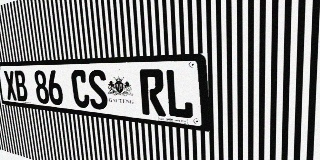6: (46, 70, 64, 106)
8: (33, 70, 50, 104)
B: (13, 70, 28, 102)
C: (70, 70, 90, 109)
L: (164, 69, 194, 120)
R: (139, 69, 166, 117)
S: (87, 70, 109, 110)
X: (3, 71, 18, 101)
